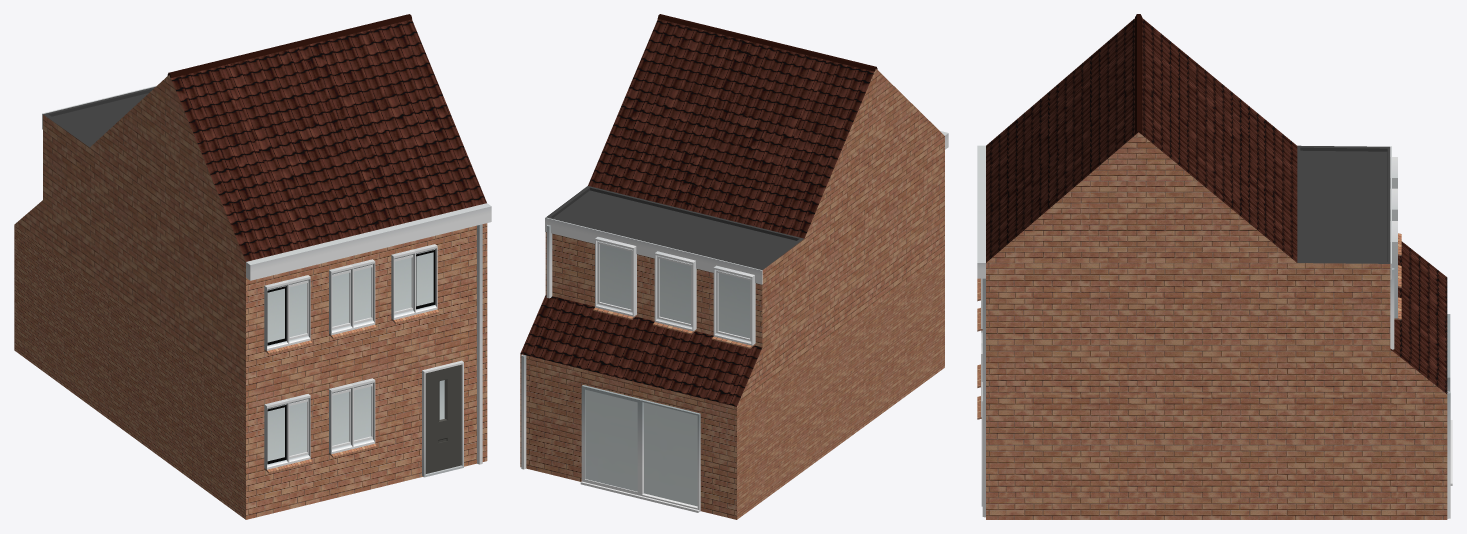
File: Buorkerij_71.fbx
3 views of the same model, side by side, from view 1: azimuth 30°, elevation 25°; view 2: azimuth 150°, elevation 25°; view 3: azimuth 270°, elevation 25° (orthographic). The views are drawn at different scales.
Visible parts, largest first — view 1: Buorkerij_71; view 2: Buorkerij_71; view 3: Buorkerij_71.
Part boxes in pixels (box(x1,y1,x2,y2)): Buorkerij_71: box(14, 14, 491, 519); Buorkerij_71: box(520, 14, 948, 519); Buorkerij_71: box(977, 14, 1452, 519).
Size of the model in its own units: 571 by 882 by 977.
